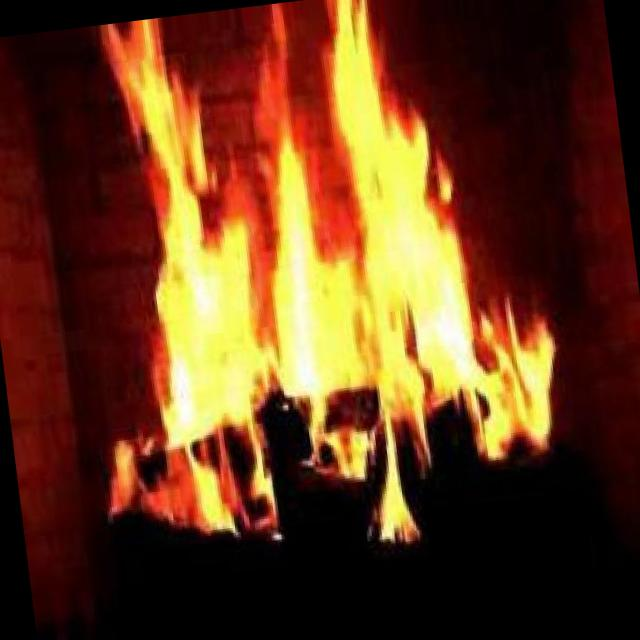Fire: (46, 0, 578, 580)
